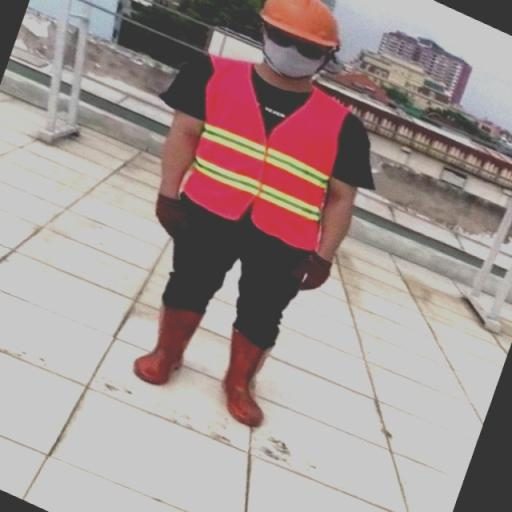Person: (132, 4, 380, 452)
boots: (218, 324, 292, 438), (135, 298, 207, 392)
gloves: (152, 189, 190, 241), (292, 252, 334, 298)
goggles: (260, 27, 335, 62)
helmet: (258, 1, 342, 49)
vest: (183, 63, 357, 261)
